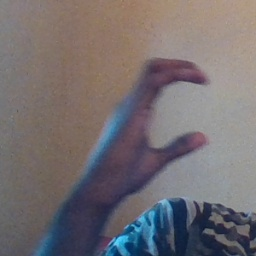C: (112, 53, 220, 171)
